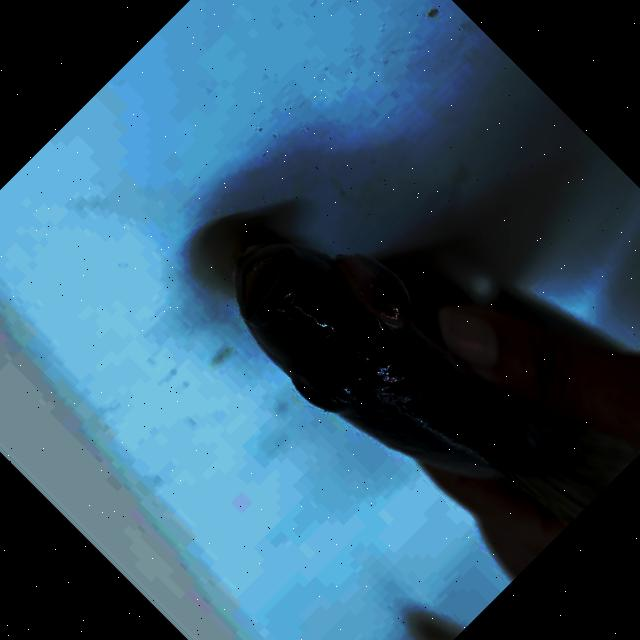Streptococcus: (234, 242, 640, 525), (234, 242, 637, 519)
